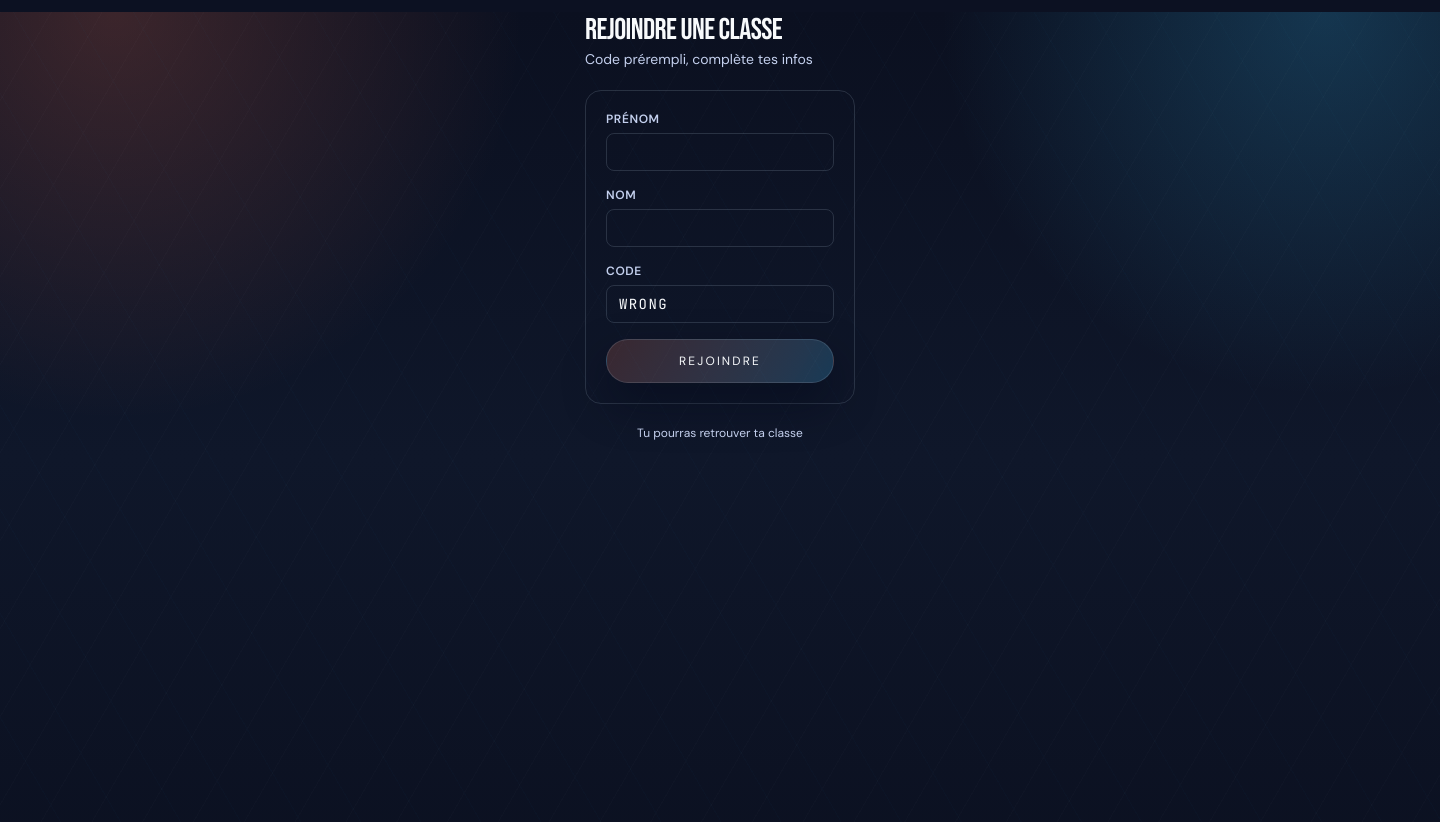
Test: RejoindreClient — soumission › POST 404 code_not_found → message d'erreur i18n affiché, pas de redirect
Type "Léa" into the field labelled "Prénom".
click(720, 152); type("Léa")  # box x1=606 y1=133 x2=834 y2=171
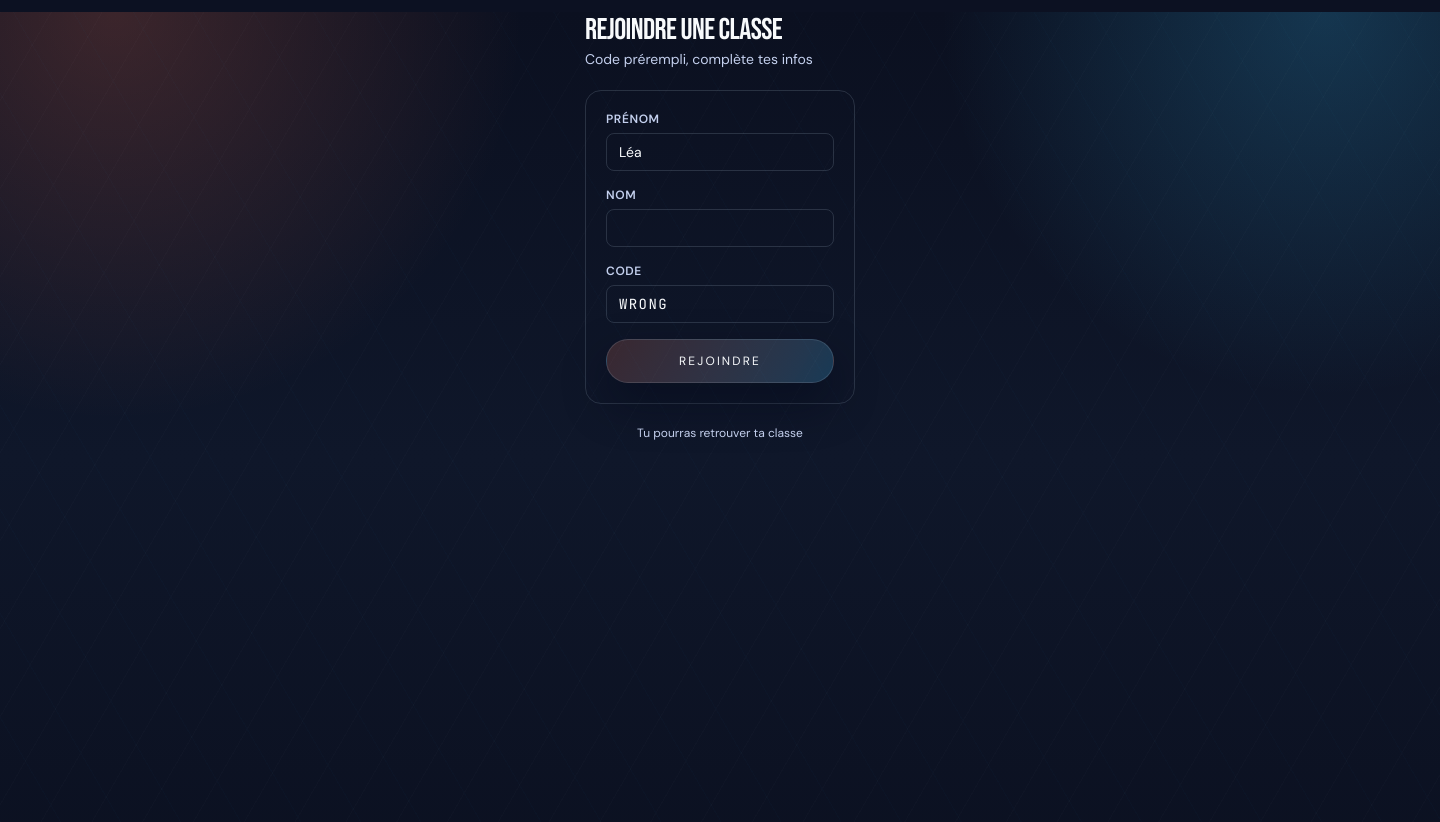
Type "Martin" into the field labelled "Nom".
click(720, 228); type("Martin")  # box x1=606 y1=209 x2=834 y2=247
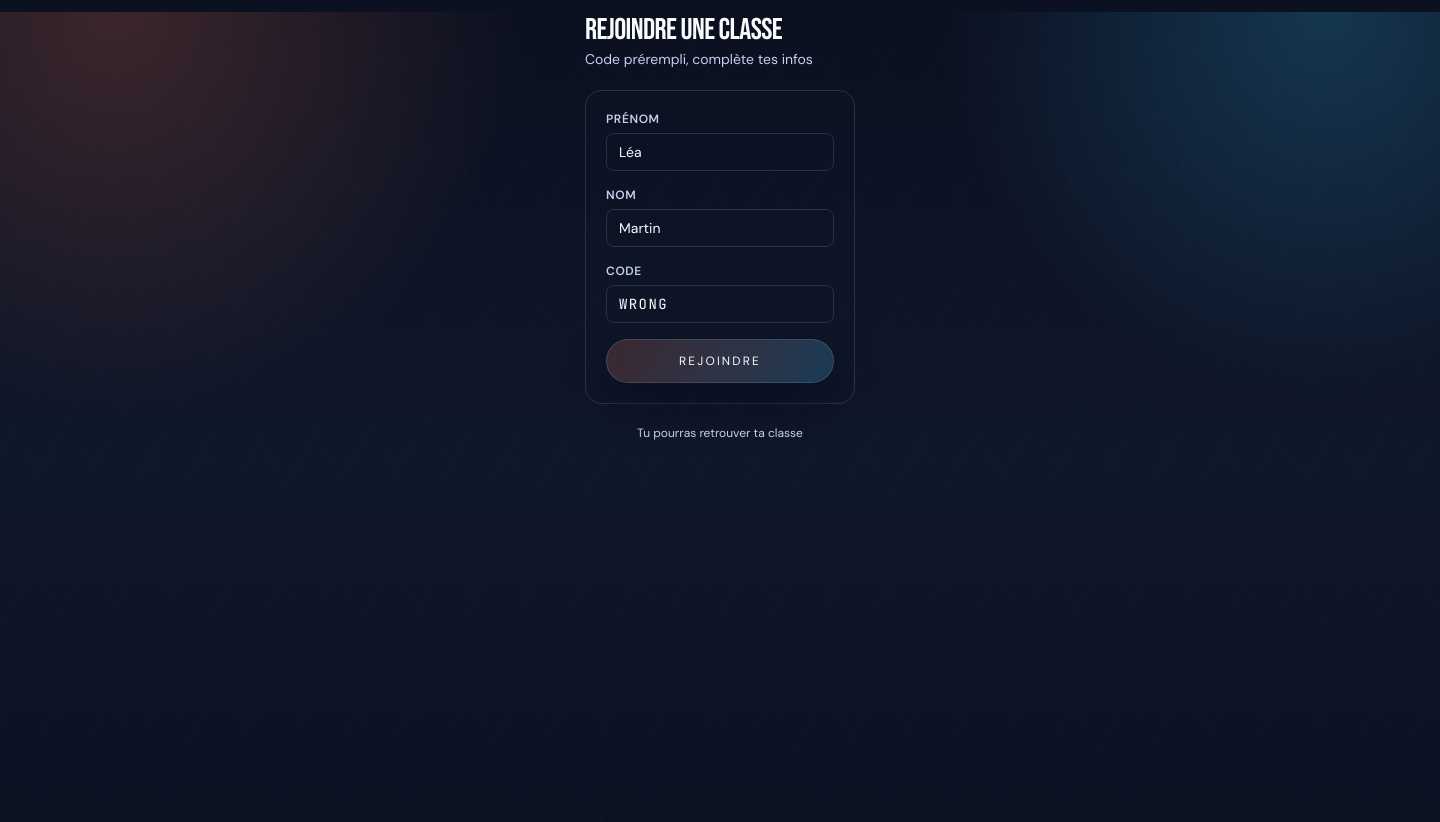
Click the button "Rejoindre".
click(720, 361)  # box x1=606 y1=339 x2=834 y2=383
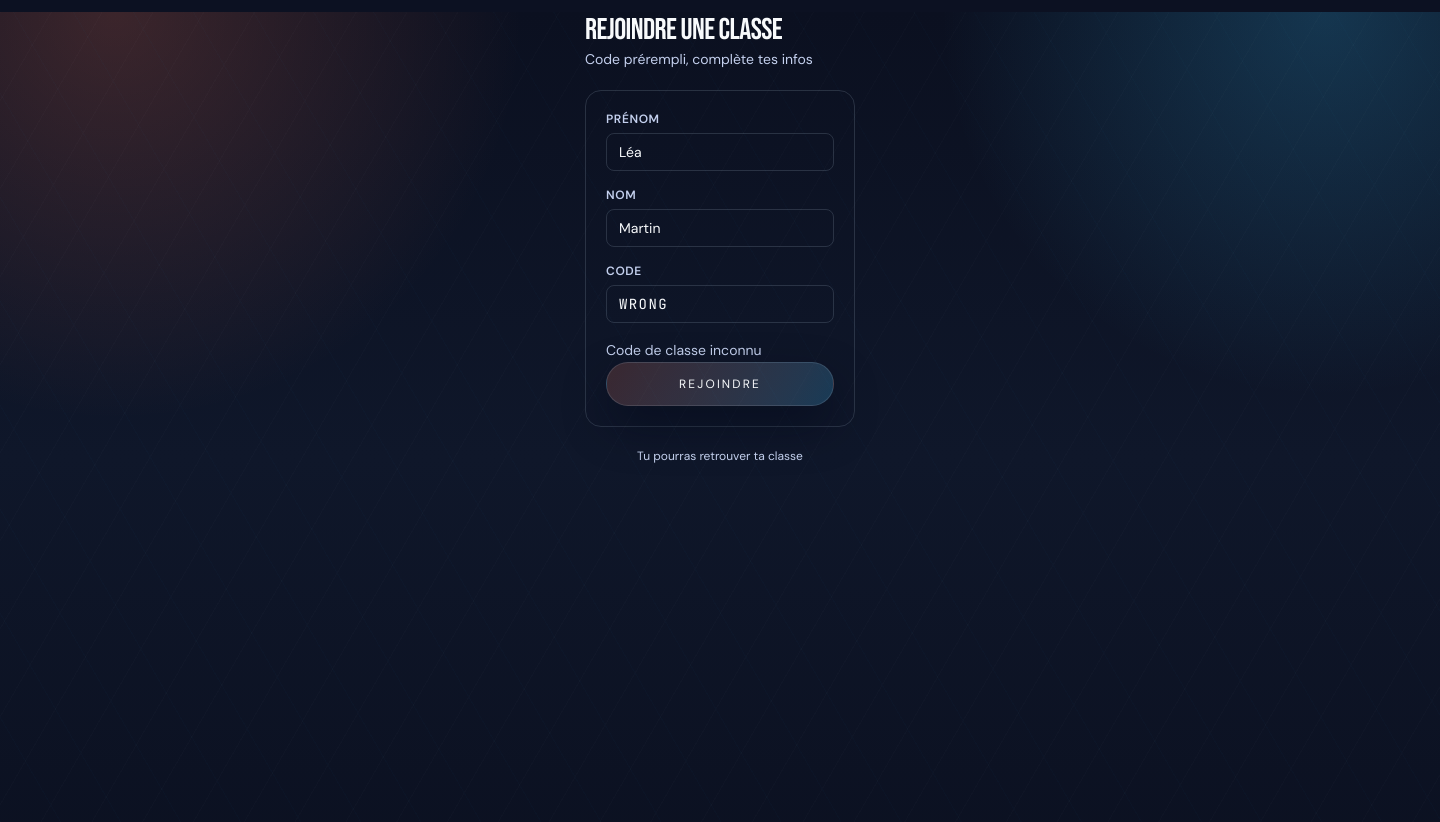
Result: the message with test id "join-form-error" reads "Code de classe inconnu" at x1=606 y1=341 x2=762 y2=359
